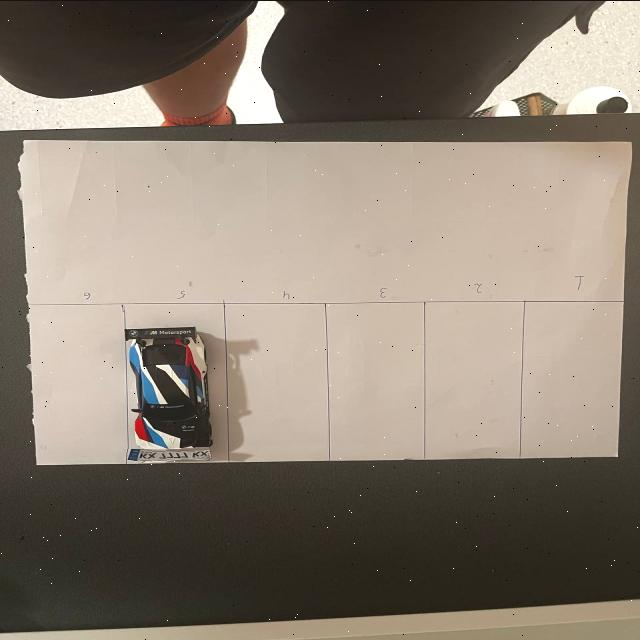KX 7777 KX: (124, 446, 209, 462)
